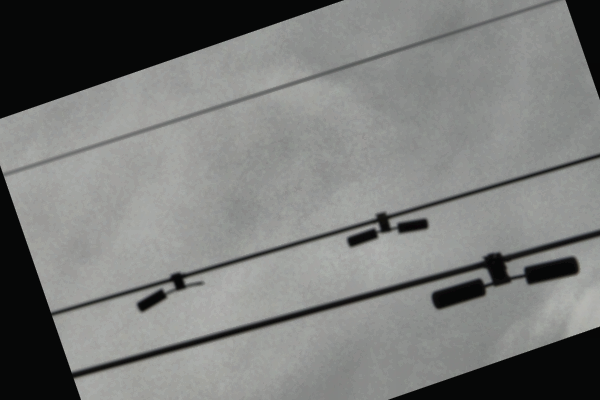damper: (431, 244, 584, 312), (345, 203, 431, 250)
damper_defect: (133, 268, 209, 314)
